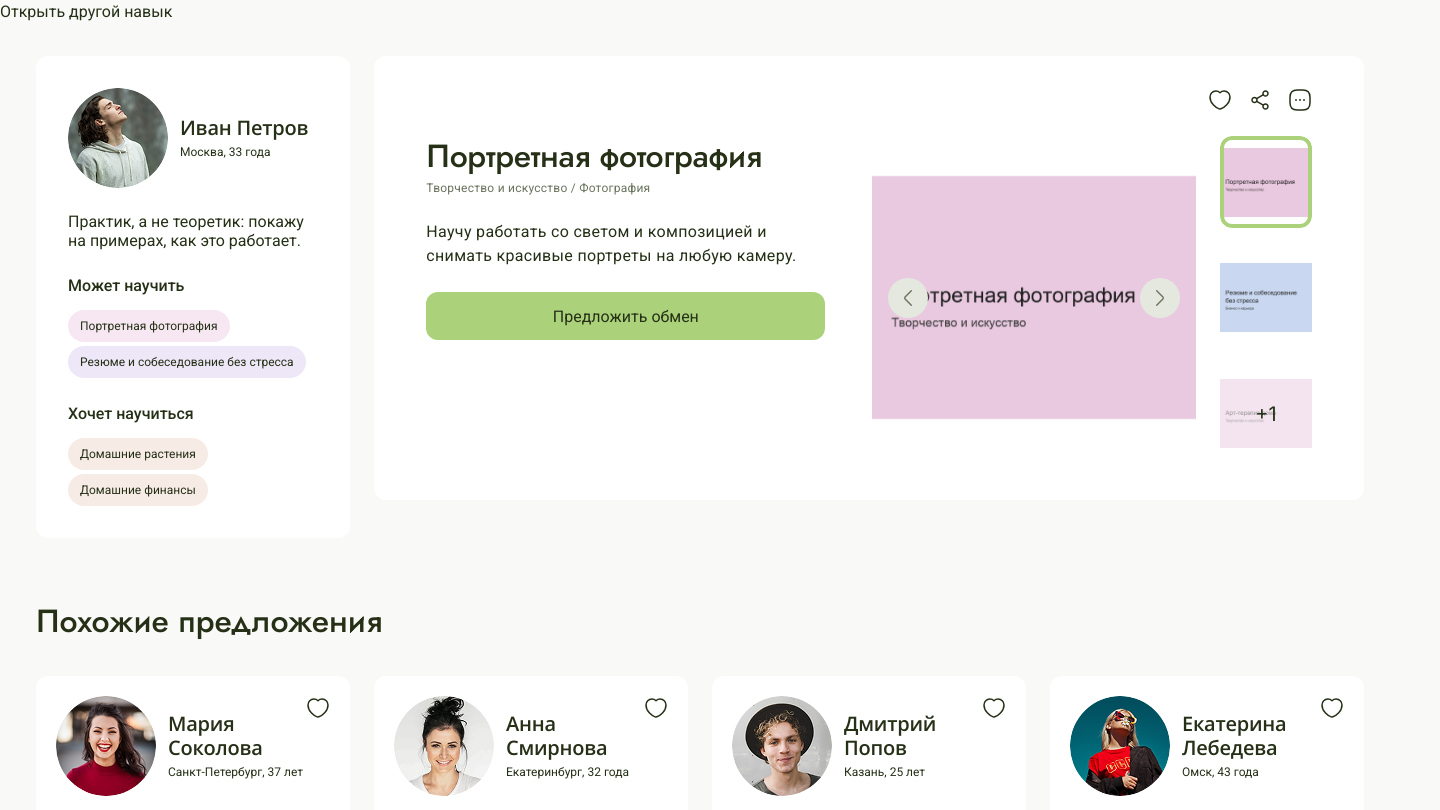
SkillPage › открывает модалку подтверждения и блокирует кнопку при предложении обмена
The image size is (1440, 810).
Click the button "Предложить обмен". click: (626, 316)
box: top-left (426, 292), bottom-right (825, 340)
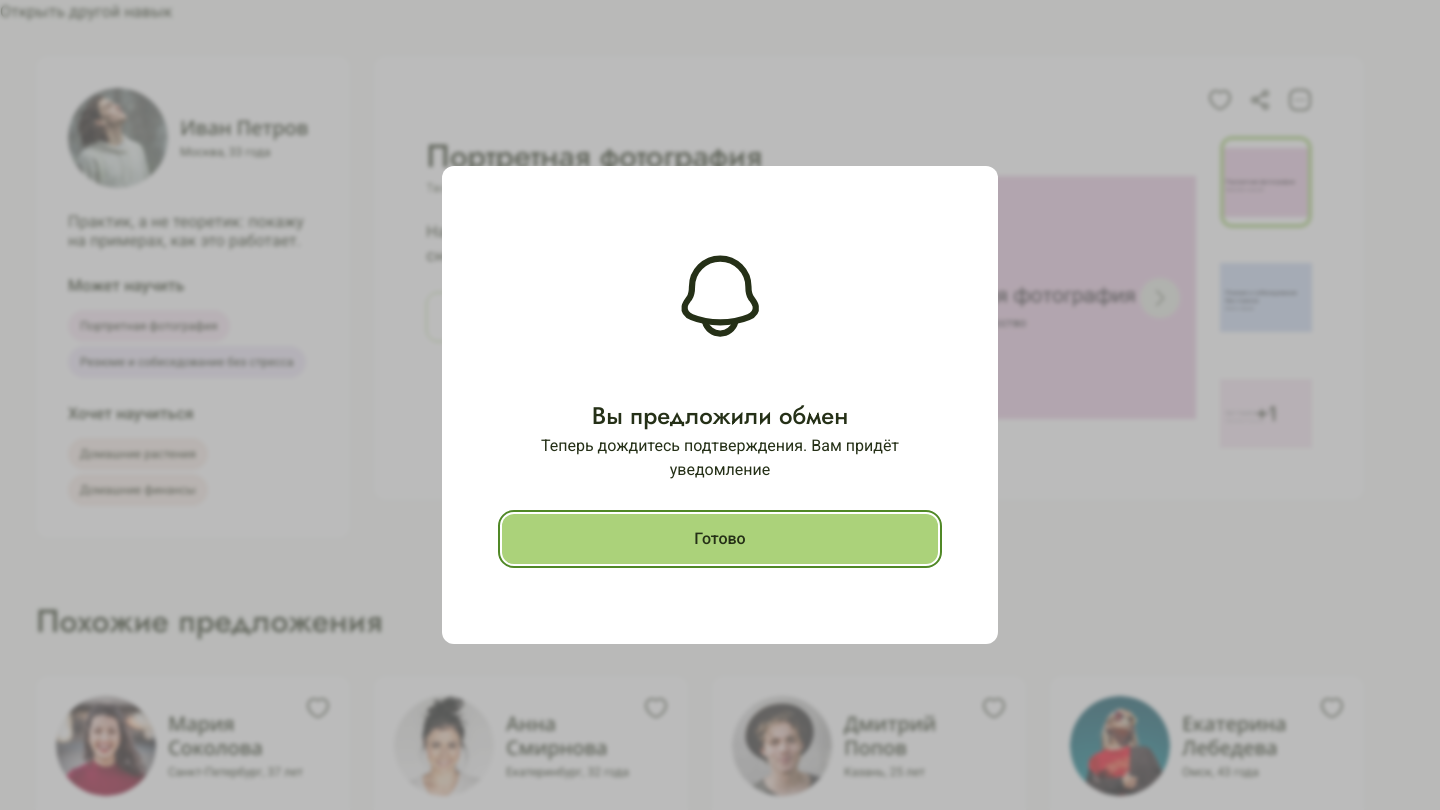
Now the heading "Вы предложили обмен" is shown, box top-left (592, 398), bottom-right (848, 434)
Now the text "Теперь дождитесь подтверждения. Вам придёт уведомление" is shown, box top-left (541, 436), bottom-right (899, 479)
Click the button "Готово". click: (720, 539)
box: top-left (502, 514), bottom-right (938, 564)
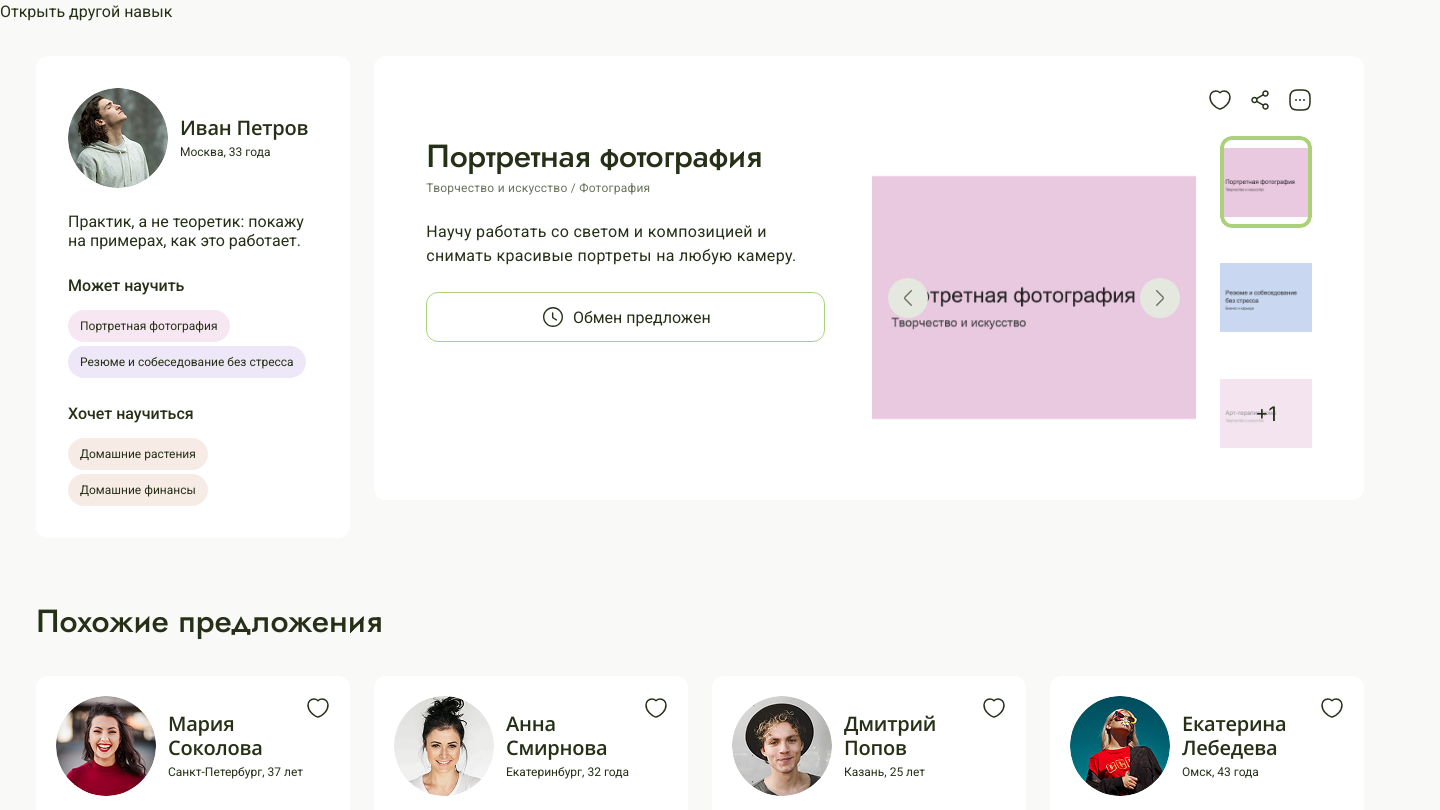
Now the heading "Вы предложили обмен" is gone
